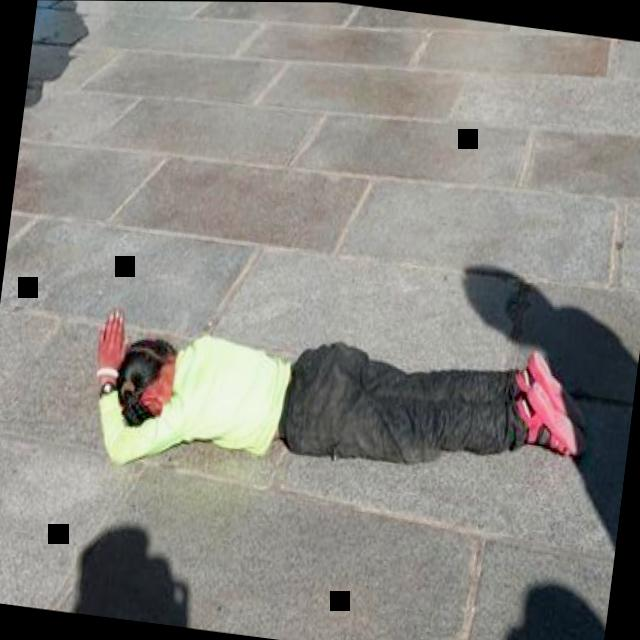Fall-Detected: (79, 281, 582, 515)
